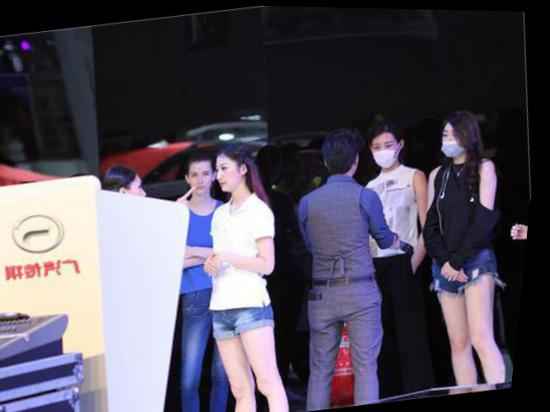NONE: (218, 159, 250, 193), (127, 180, 157, 211), (190, 166, 217, 195)
OK: (374, 138, 405, 169)
WRONG: (438, 122, 477, 159)
